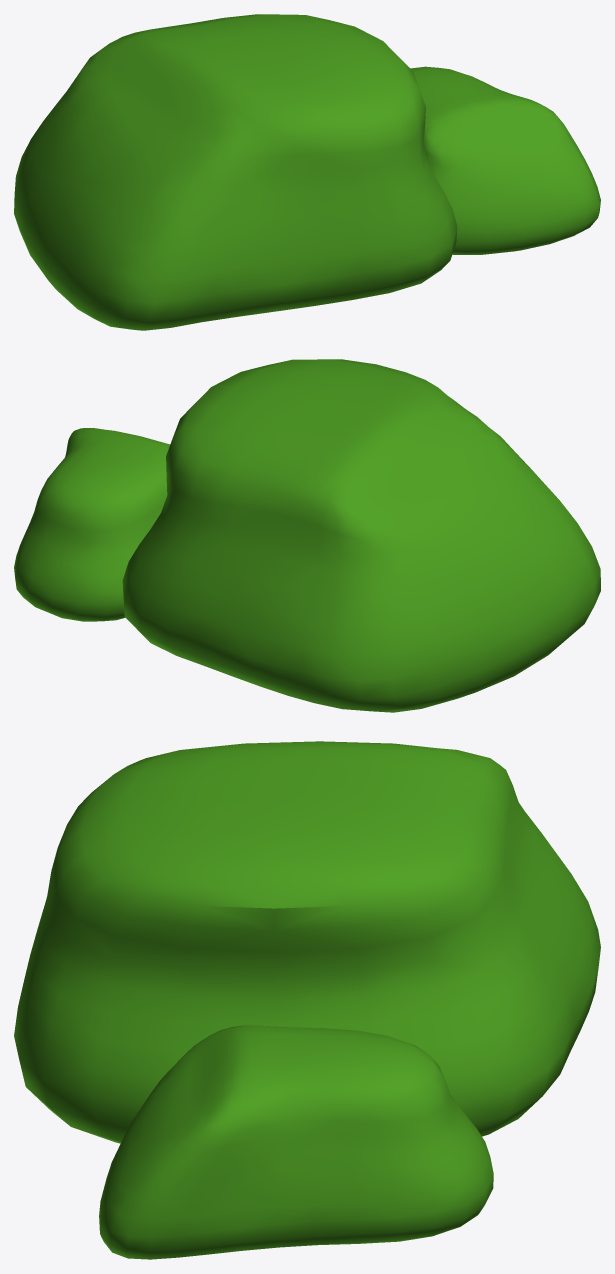
File: Bush 3.fbx
The picture shows the model from 3 angles, top to bottom: view 1: azimuth 30°, elevation 25°; view 2: azimuth 150°, elevation 25°; view 3: azimuth 270°, elevation 25°; orthographic projection. The views are drawn at different scales.
Parts seen in each view (by area): view 1: Cube; view 2: Cube; view 3: Cube.
Boxes of the visible parts, x1,y1,x2,y2 form: Cube: [14, 14, 600, 330]; Cube: [14, 359, 600, 712]; Cube: [14, 741, 600, 1259].
Size of the model in its own units: 422 by 173 by 301.
